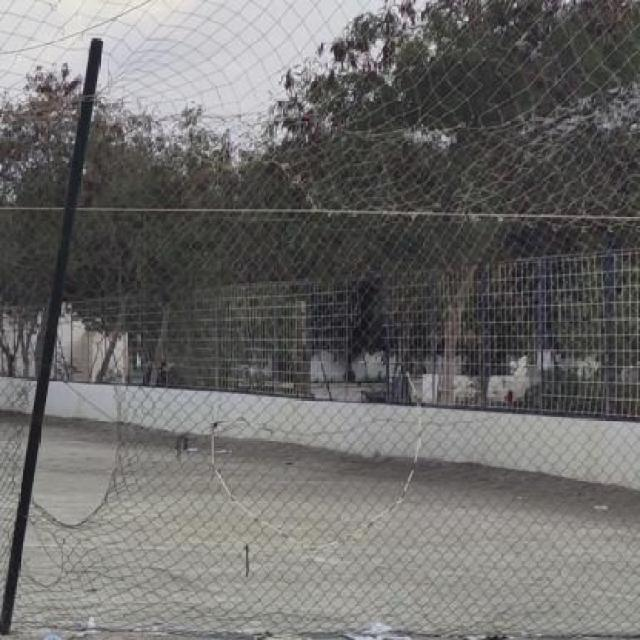fence line: (18, 322, 141, 525)
